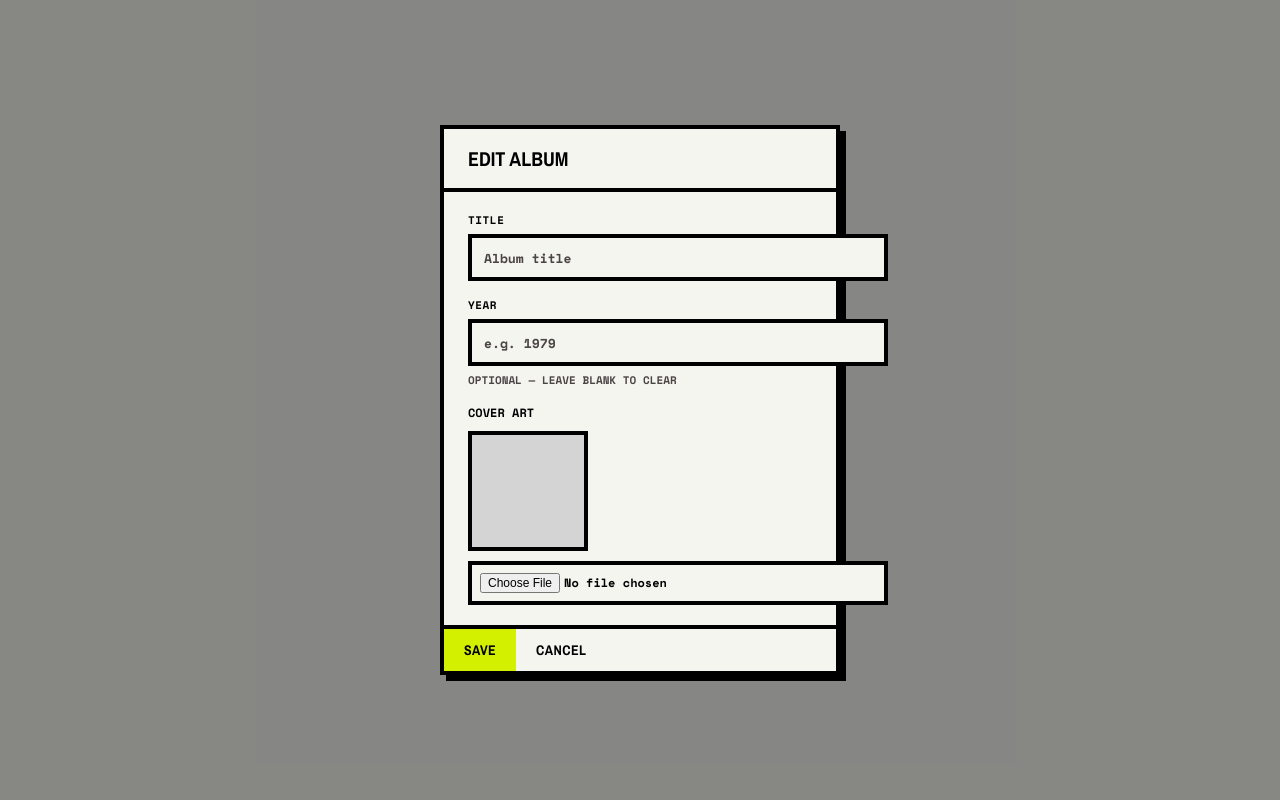
Scenario: EditAlbumModalComponent › disables save when the title is blank
Clear the field with placeholder "Album title" at point(678, 258), box x1=468 y1=234 x2=888 y2=281
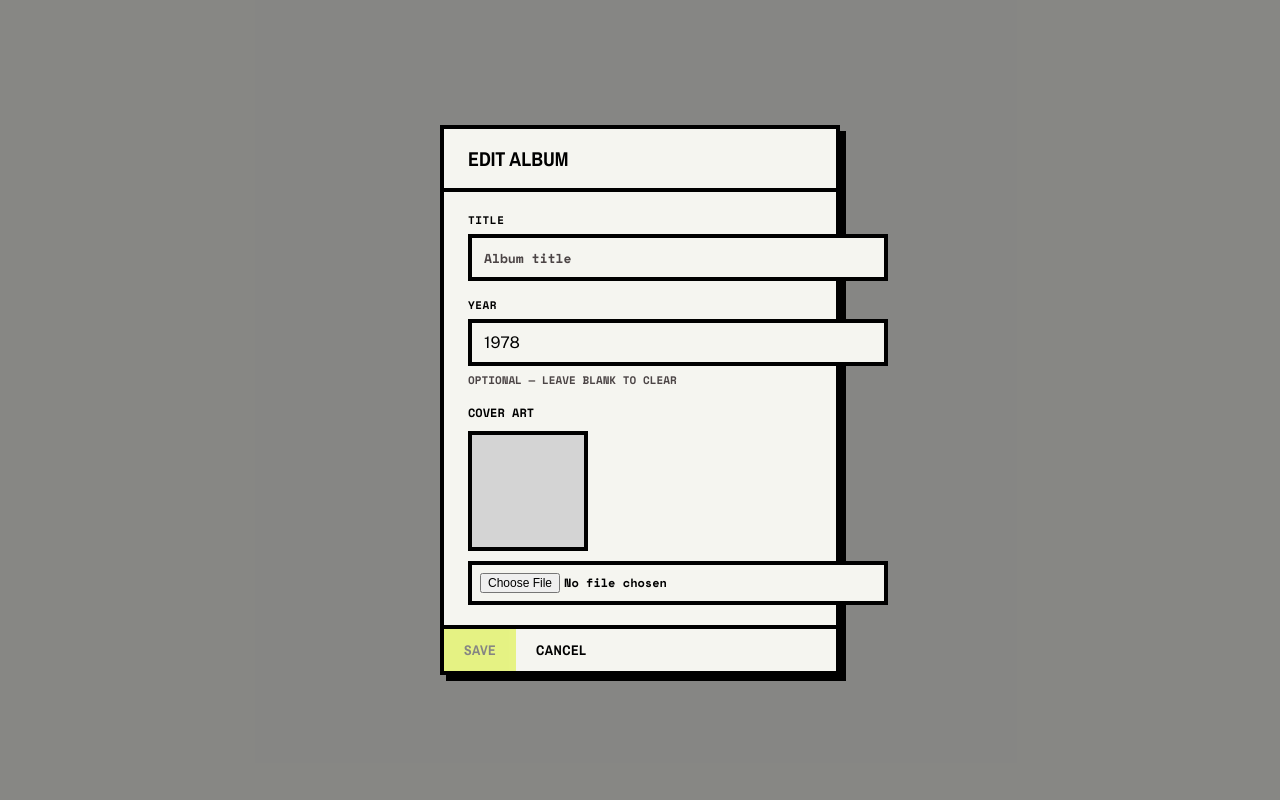
Now the button "SAVE" is disabled, box x1=444 y1=629 x2=516 y2=671
